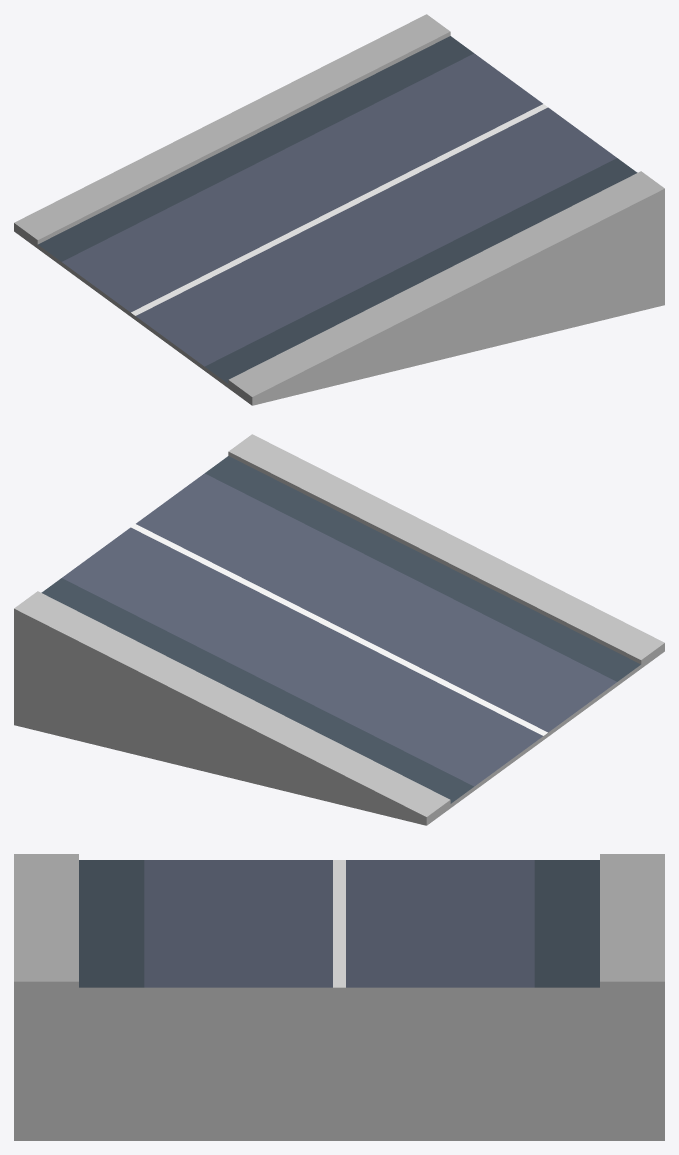
File: SM_Road_Slant.fbx
The picture shows the model from 3 angles, top to bottom: view 1: azimuth 30°, elevation 25°; view 2: azimuth 150°, elevation 25°; view 3: azimuth 270°, elevation 25°; orthographic projection. The views are drawn at different scales.
Parts seen in each view (by area): view 1: SM_Road_Slant; view 2: SM_Road_Slant; view 3: SM_Road_Slant.
Part boxes in pixels (x1,y1,x2,y2): SM_Road_Slant: (14, 14, 664, 405); SM_Road_Slant: (14, 434, 664, 825); SM_Road_Slant: (14, 854, 664, 1140).
Bounding box in the file's own units: 1000 × 270 × 1000.
